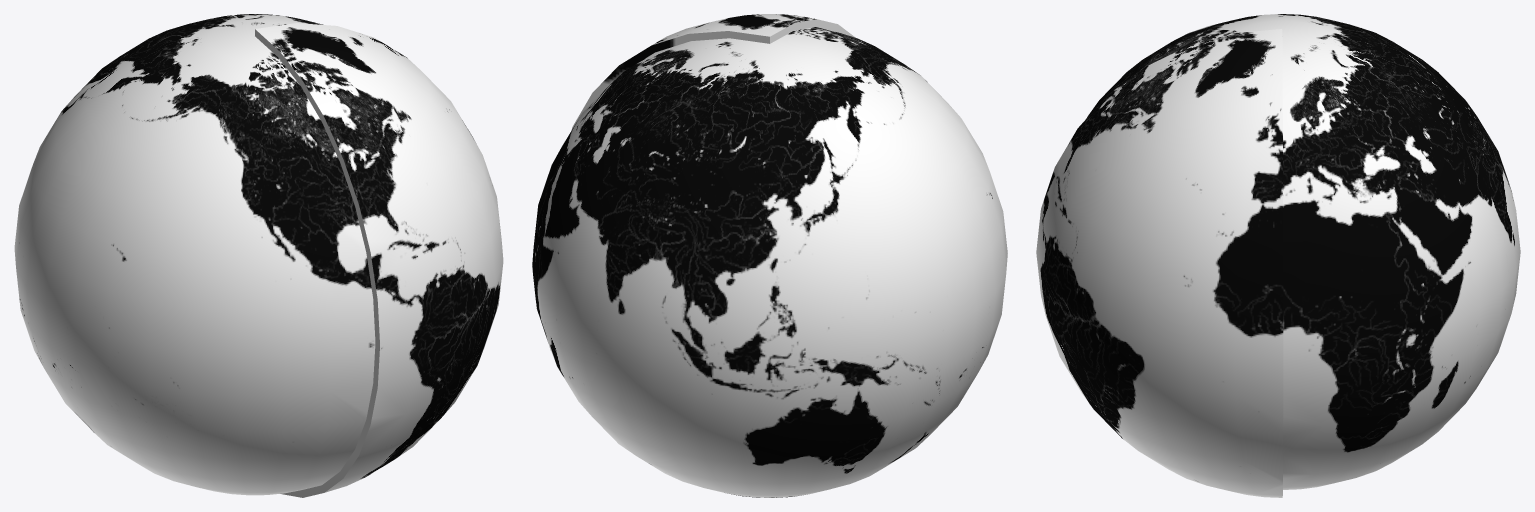
Rendered from ziemia_animacja_test2.glb.
3 views of the same model, side by side, from view 1: azimuth 30°, elevation 25°; view 2: azimuth 150°, elevation 25°; view 3: azimuth 270°, elevation 25° (orthographic).
Visible parts, largest first — view 1: Sphere, Sphere.003; view 2: Sphere, Sphere.003; view 3: Sphere, Sphere.003.
Part boxes in pixels (box(x1,y1,x2,y2)): Sphere: box(14, 14, 375, 495); Sphere.003: box(255, 23, 503, 497); Sphere: box(532, 27, 1007, 497); Sphere.003: box(571, 14, 855, 130); Sphere: box(1086, 14, 1520, 489); Sphere.003: box(1036, 29, 1283, 497).
Bounding box in the file's own units: 2.03 × 2.07 × 2.03.
4 materials, 2 textured.
